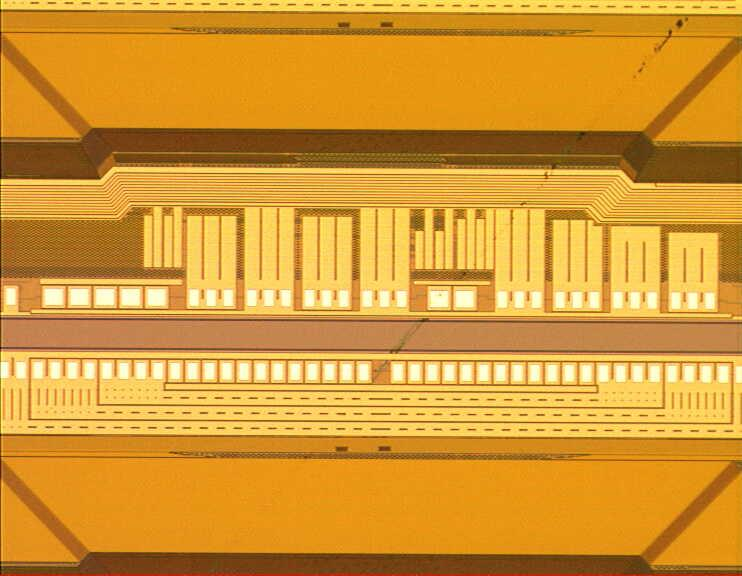SCRATCH: (343, 2, 712, 415)
